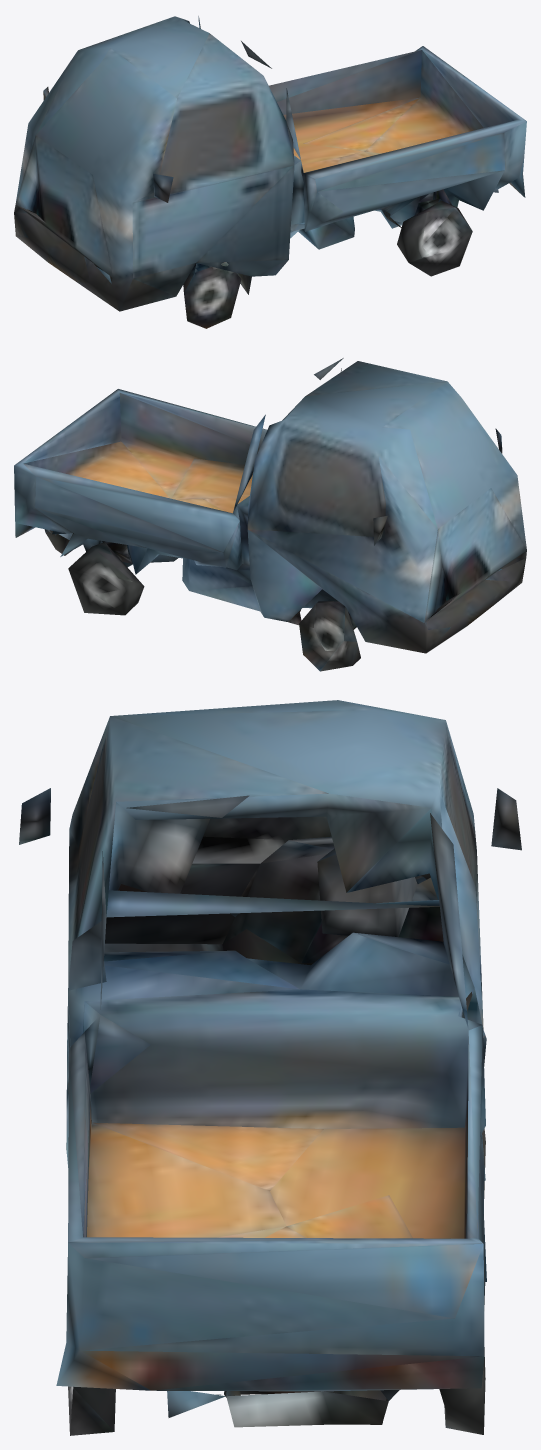
Rendered from prop-parked-truck.glb.
The picture shows the model from 3 angles, top to bottom: view 1: azimuth 30°, elevation 25°; view 2: azimuth 150°, elevation 25°; view 3: azimuth 270°, elevation 25°; orthographic projection. The views are drawn at different scales.
Size of the model in its own units: 2 by 1.1 by 1.05.
Materials: 1 (1 with a texture image).
